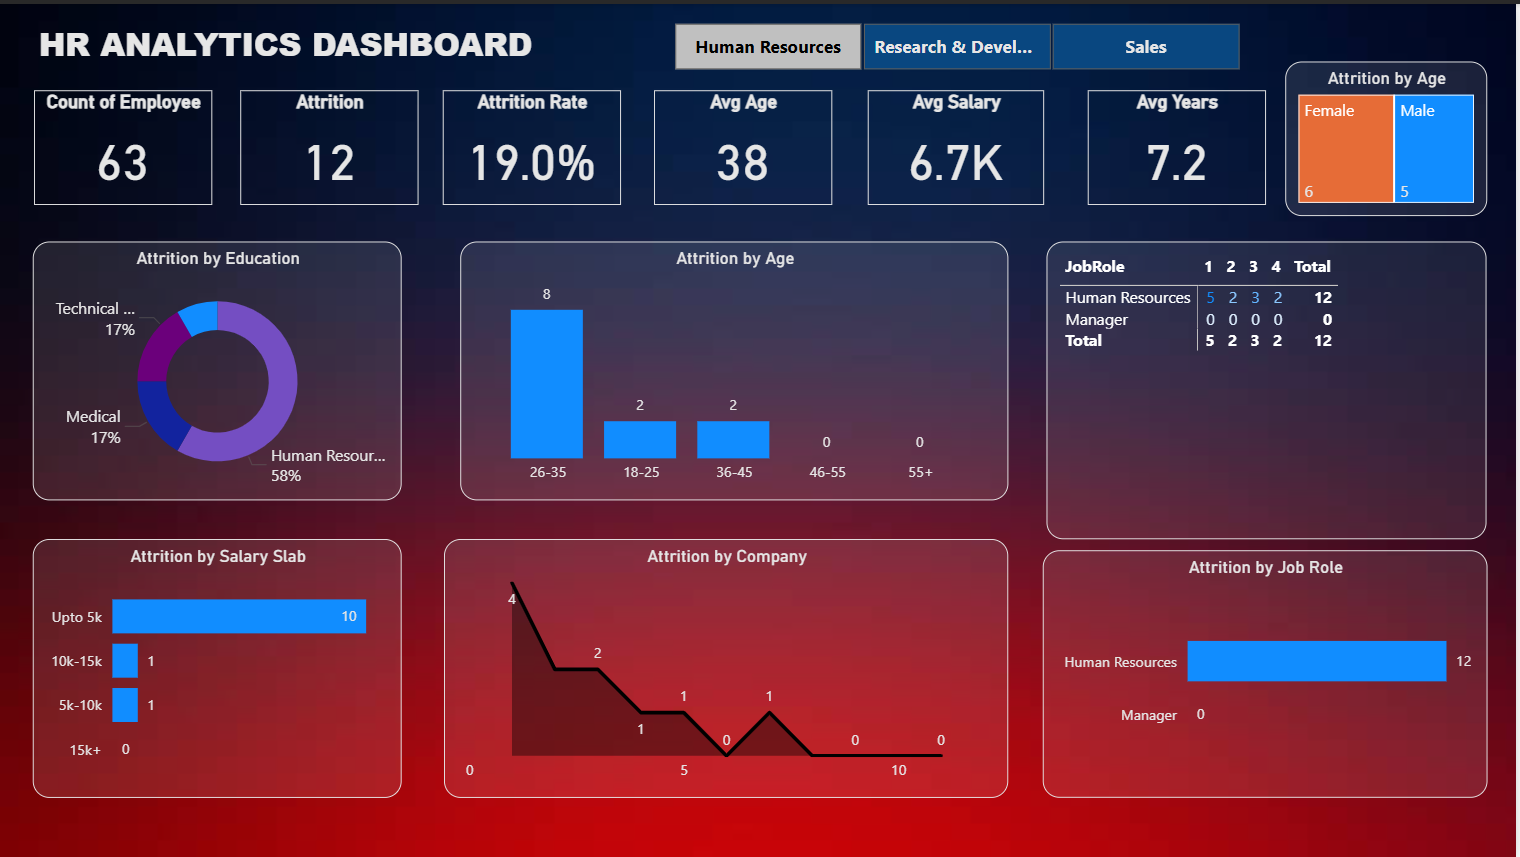

The page's visual inventory and layout, read from the dashboard file:
{"tool":"powerbi","page":{"name":"Page 1","canvas":[1280,720],"ordinal":0},"visuals":[{"type":"card","title":"Count of Employee","fields":{"Values":["CountNonNull(HR_Analytics.EmpID)"]},"box":[29.1,73.3,150,96.5],"z":0},{"type":"card","title":"Avg Age","fields":{"Values":["Avg(HR_Analytics.Age)"]},"box":[552.3,73.3,150,96.5],"z":1000},{"type":"card","title":"Attrition Rate","fields":{"Values":["HR_Analytics.AttritionRate"]},"box":[374.4,73.3,150,96.5],"z":2000},{"type":"card","title":"Attrition","fields":{"Values":["Sum(HR_Analytics.AttritionCount)"]},"box":[203.5,73.3,150,96.5],"z":3000},{"type":"card","title":"Avg Years","fields":{"Values":["Avg(HR_Analytics.YearsAtCompany)"]},"box":[918.6,73.3,150,96.5],"z":4000},{"type":"card","title":"Avg Salary","fields":{"Values":["Avg(HR_Analytics.MonthlyIncome)"]},"box":[732.6,73.3,148.8,96.5],"z":5000},{"type":"donutChart","title":"Attrition by Education","fields":{"Category":["HR_Analytics.EducationField"],"Y":["Sum(HR_Analytics.AttritionCount)"]},"box":[28.8,200,311.2,218.8],"z":6000},{"type":"columnChart","title":"Attrition by Age","fields":{"Category":["HR_Analytics.AgeGroup"],"Y":["Sum(HR_Analytics.AttritionCount)"]},"box":[388.8,200,462.5,218.8],"z":7000},{"type":"pivotTable","fields":{"Rows":["HR_Analytics.JobRole"],"Columns":["HR_Analytics.JobSatisfaction"],"Values":["Sum(HR_Analytics.AttritionCount)"]},"box":[883.8,200,371.2,251.2],"z":8000},{"type":"barChart","title":"Attrition by Salary Slab","fields":{"Category":["HR_Analytics.SalarySlab"],"Y":["Sum(HR_Analytics.AttritionCount)"]},"box":[28.8,451.2,311.2,218.8],"z":9000},{"type":"barChart","title":"Attrition by Job Role","fields":{"Category":["HR_Analytics.JobRole"],"Y":["Sum(HR_Analytics.AttritionCount)"]},"box":[880,461.2,375,208.8],"z":10000},{"type":"areaChart","title":"Attrition by Company","fields":{"Category":["HR_Analytics.YearsAtCompany"],"Y":["Sum(HR_Analytics.AttritionCount)"]},"box":[375,451.2,476.2,218.8],"z":11000},{"type":"treemap","title":"Attrition by Age","fields":{"Group":["HR_Analytics.Gender"],"Values":["Sum(HR_Analytics.AttritionCount)"]},"box":[1085,48.8,170,130],"z":12000},{"type":"slicer","fields":{"Values":["HR_Analytics.Department"]},"box":[543.8,10,526.2,52.5],"z":13000},{"type":"textbox","box":[28.8,10,496.2,52.5],"z":14000}]}

Visuals, with their boxes in screenshot pixels (x1, y1, x2, y2), scaled from the page's 1280x720 canvas onto the 1520x857 screenshot:
"Count of Employee" card: BBox(35, 87, 213, 202)
"Avg Age" card: BBox(656, 87, 834, 202)
"Attrition Rate" card: BBox(445, 87, 623, 202)
"Attrition" card: BBox(242, 87, 420, 202)
"Avg Years" card: BBox(1091, 87, 1269, 202)
"Avg Salary" card: BBox(870, 87, 1047, 202)
"Attrition by Education" donutChart: BBox(34, 238, 404, 498)
"Attrition by Age" columnChart: BBox(462, 238, 1011, 498)
pivotTable - HR_Analytics.JobRole x HR_Analytics.JobSatisfaction: BBox(1050, 238, 1490, 537)
"Attrition by Salary Slab" barChart: BBox(34, 537, 404, 797)
"Attrition by Job Role" barChart: BBox(1045, 549, 1490, 797)
"Attrition by Company" areaChart: BBox(445, 537, 1011, 797)
"Attrition by Age" treemap: BBox(1288, 58, 1490, 213)
slicer - HR_Analytics.Department: BBox(646, 12, 1271, 74)
textbox: BBox(34, 12, 623, 74)
